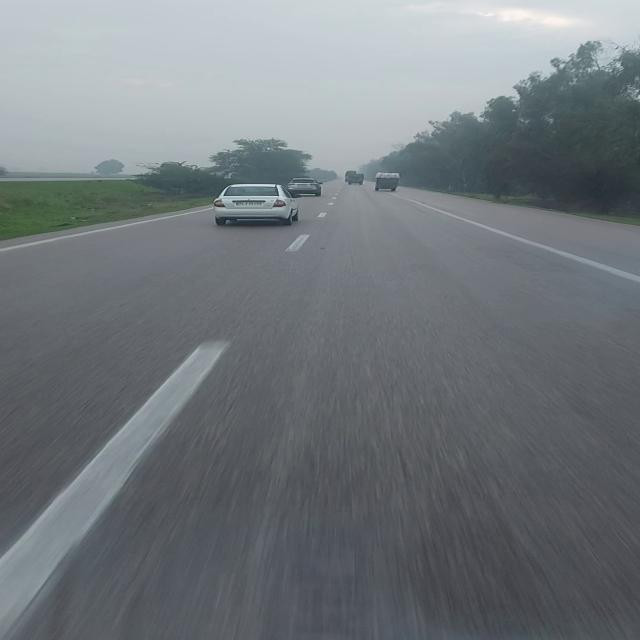Car: (204, 182, 307, 232)
